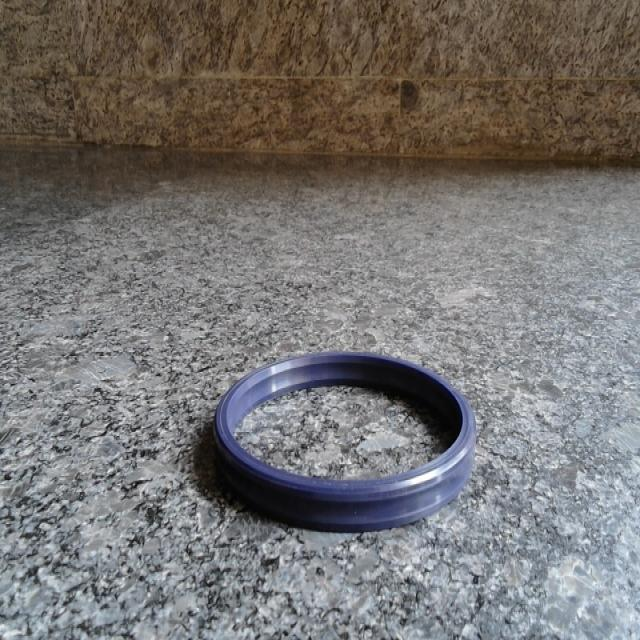purple-ring: (215, 352, 476, 530)
